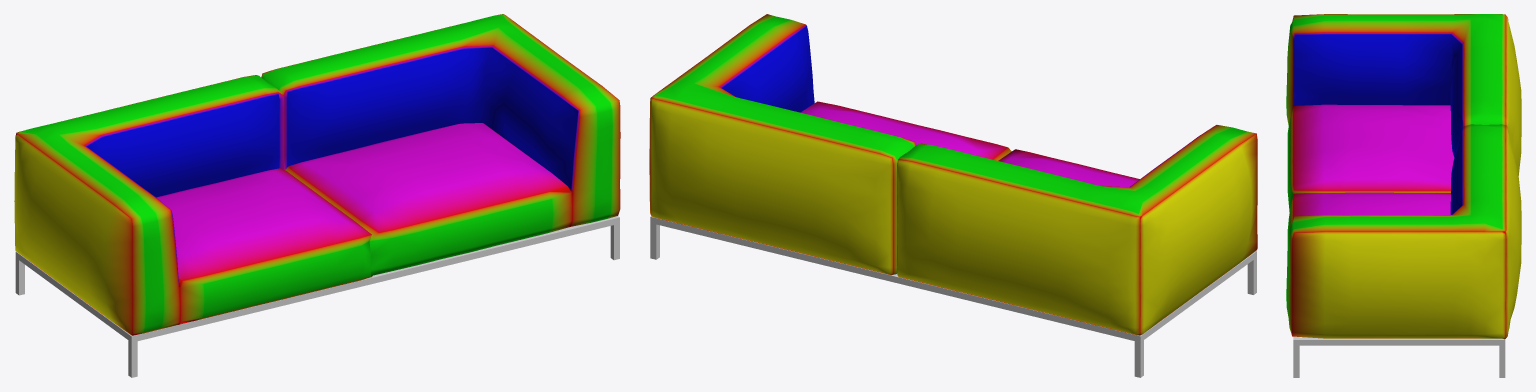
Rendered from Sofa.fbx.
The picture shows the model from 3 angles, left to right: view 1: azimuth 30°, elevation 25°; view 2: azimuth 150°, elevation 25°; view 3: azimuth 270°, elevation 25°; orthographic projection. The views are drawn at different scales.
Visible parts, largest first — view 1: Sofa; view 2: Sofa; view 3: Sofa.
Boxes of the visible parts, x1,y1,x2,y2 form: Sofa: (14,14,620,377); Sofa: (649,14,1257,377); Sofa: (1286,14,1521,377).
Bounding box in the file's own units: 611 × 189 × 263.
